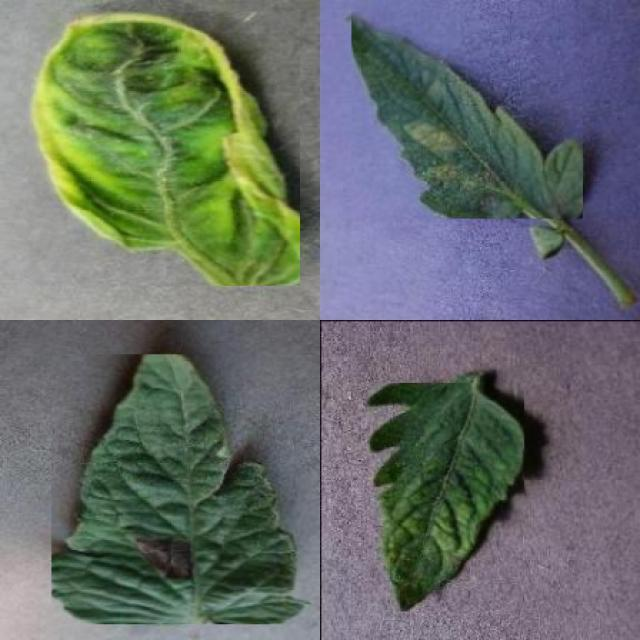Early Blight: (52, 354, 311, 624)
Leaf Mold: (352, 12, 584, 218)
Mosaic Virus: (368, 382, 525, 612)
Yellow Leaf Curl Virus: (29, 12, 301, 285)
